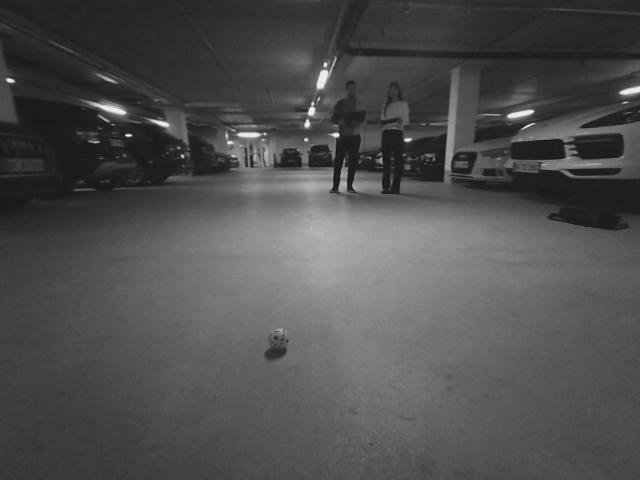dogtoy: (257, 323, 298, 355)
